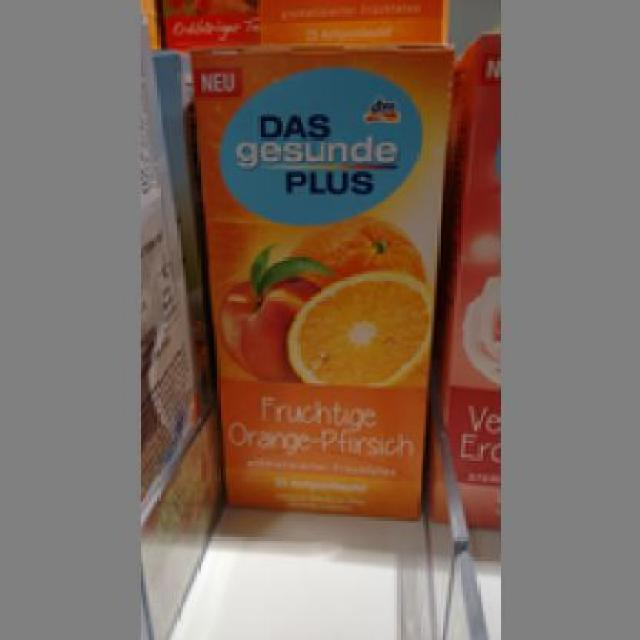Tea: (185, 40, 458, 517)
